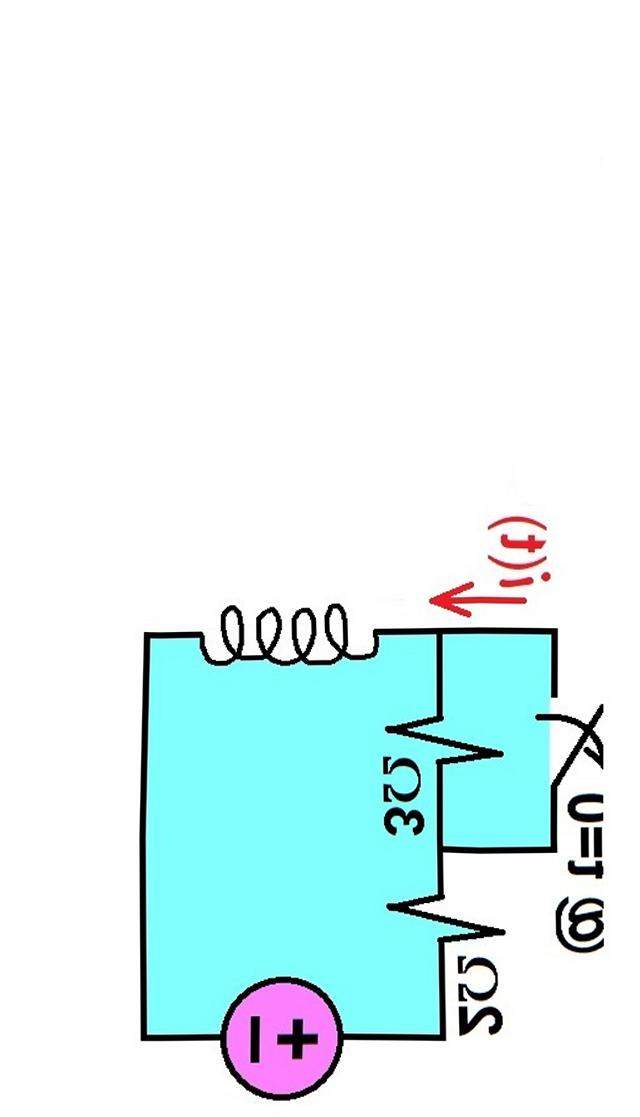Battery: (186, 952, 370, 1103)
